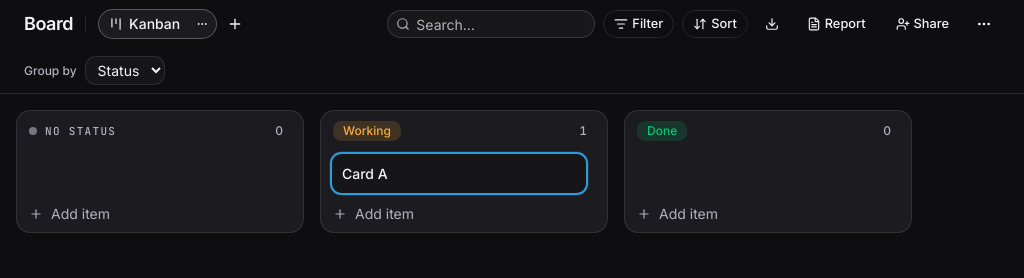
Test: KanbanBoard Group-by (B3: instant regroup, background persist) › regroups instantly and persists via updateBoardView without a router.refresh
Expected: the element "Working" is shown, [320,110,608,233]
Expected: the element "Todo" is not shown
Select "Stage" in the dropdown labelled "Group by" at (125, 70), box [85,56,165,85]
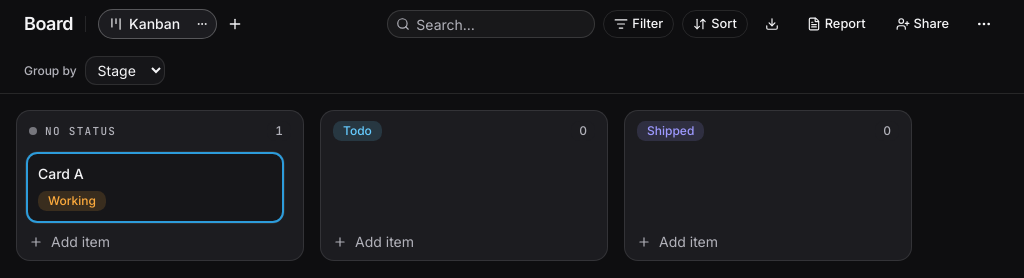
Expected: the element "Todo" is shown, [320,110,608,261]
Expected: the element "Shipped" is shown, [624,110,912,261]
